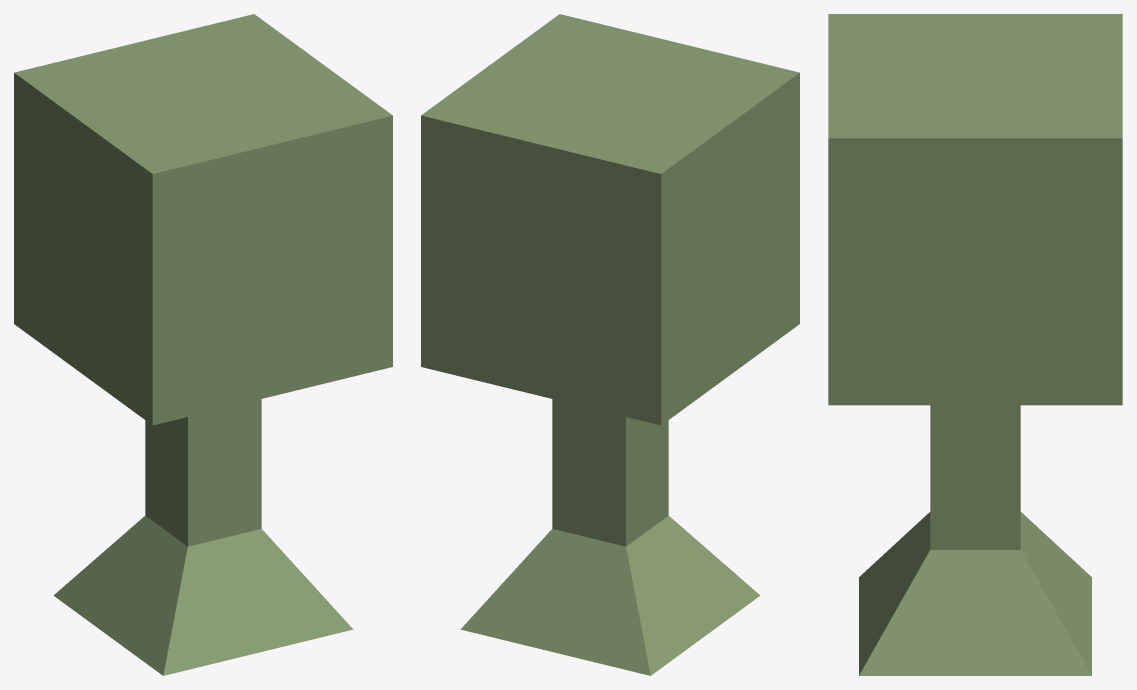
The model's file is Candeeiro.fbx.
3 views of the same model, side by side, from view 1: azimuth 30°, elevation 25°; view 2: azimuth 150°, elevation 25°; view 3: azimuth 270°, elevation 25° (orthographic). The views are drawn at different scales.
Parts seen in each view (by area): view 1: Cube.001; view 2: Cube.001; view 3: Cube.001.
Boxes of the visible parts, box(x1,y1,x2,y2) form: Cube.001: box(14, 14, 392, 675); Cube.001: box(421, 14, 799, 675); Cube.001: box(828, 14, 1122, 675).
Size of the model in its own units: 123 by 255 by 123.
